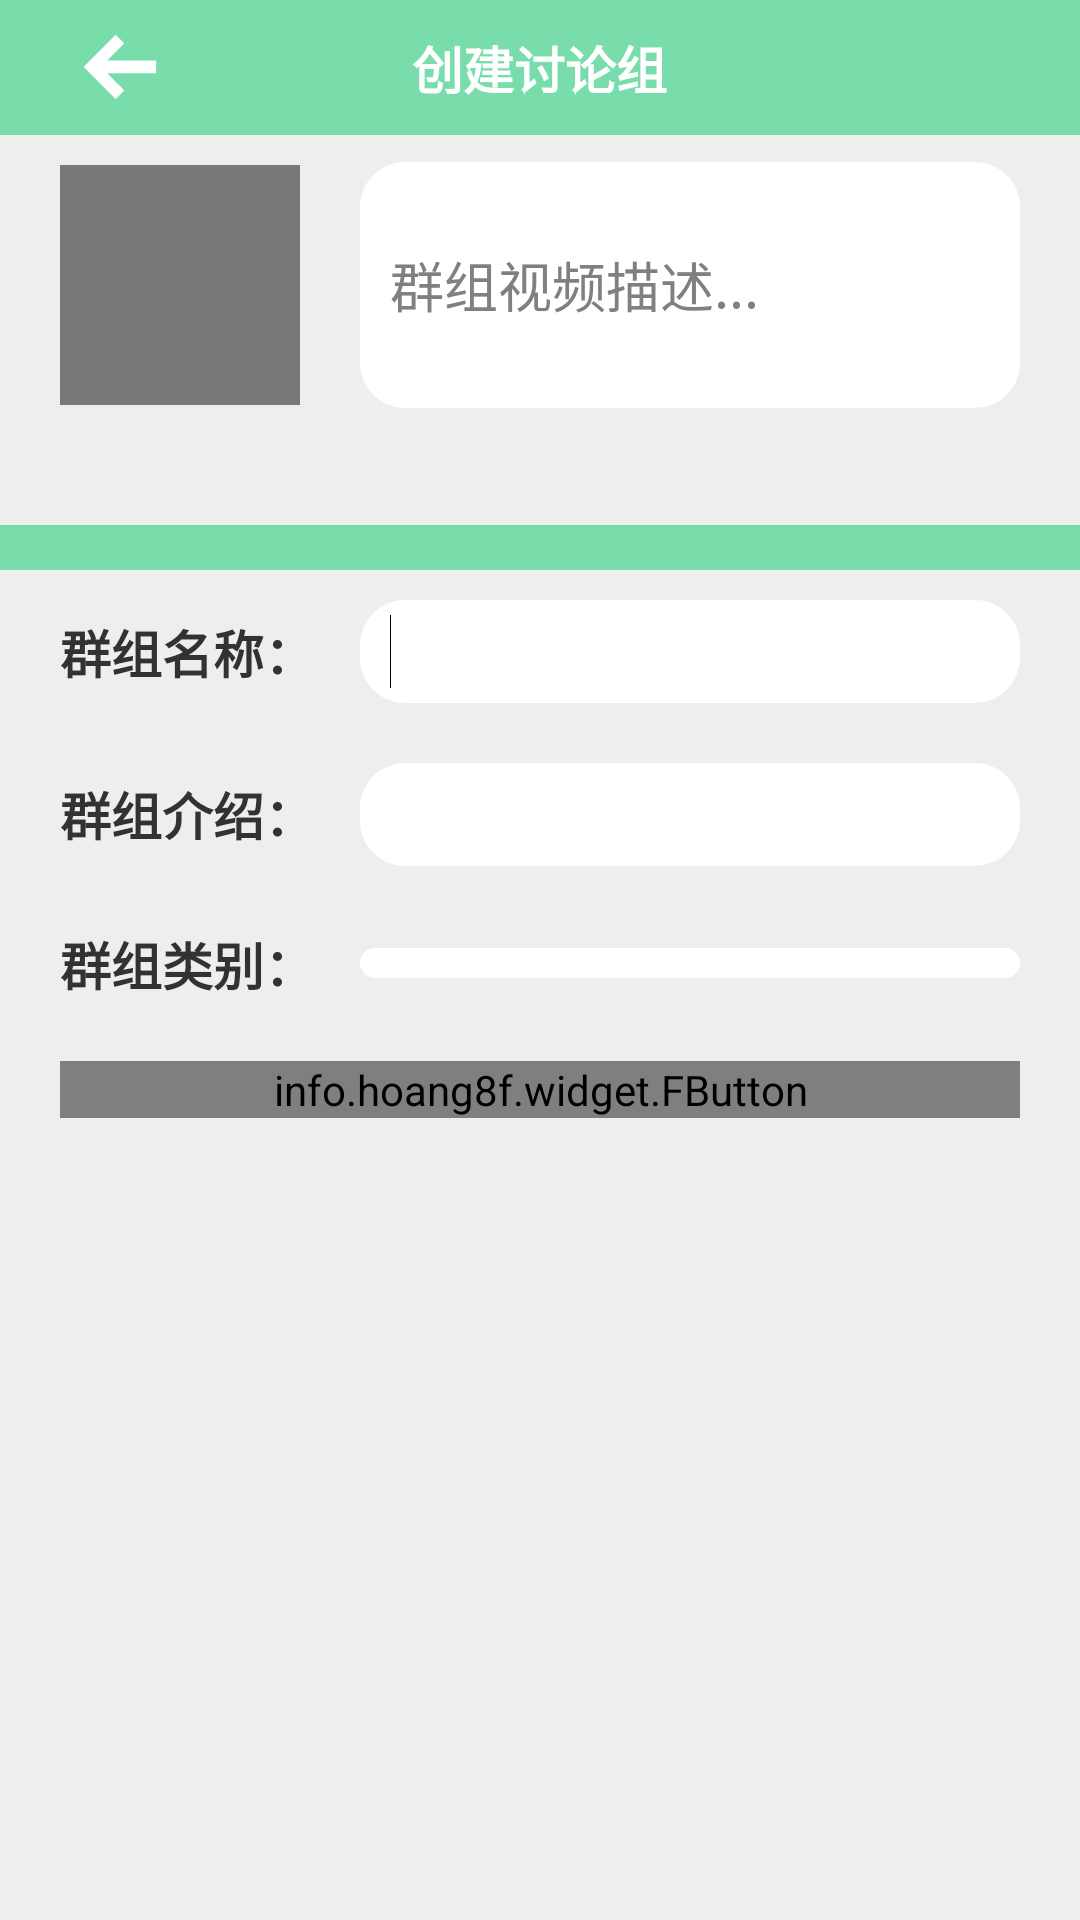

Named icons in this screenshot (1080*1920) and their bounding boxes, (x1, y1, x2, y2):
arrow left: (84, 35, 156, 99)
